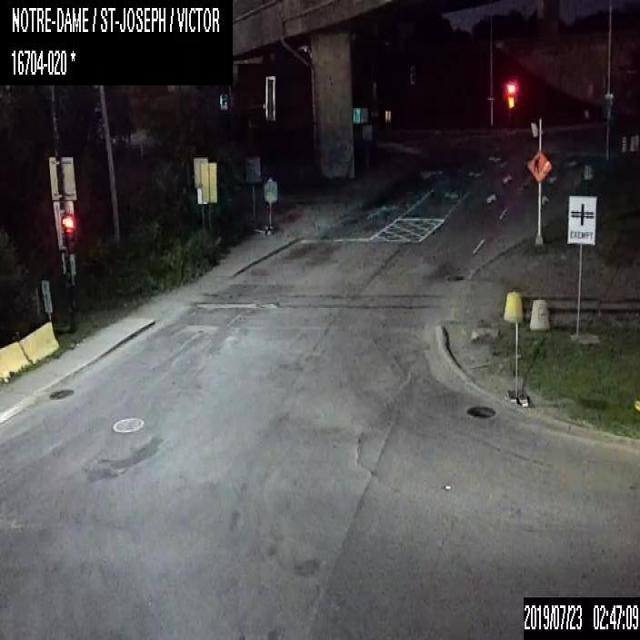construction: (527, 150, 551, 180), (621, 136, 626, 151), (634, 134, 639, 149), (630, 136, 634, 150)
